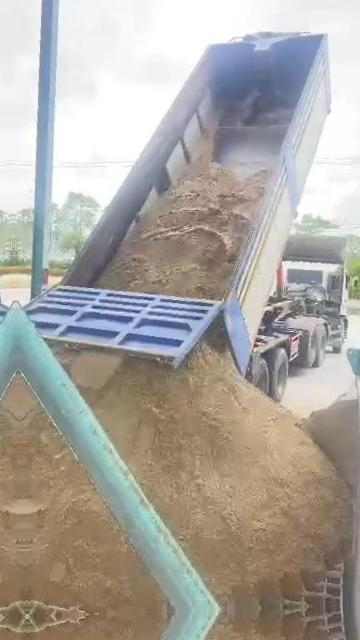sand: (59, 340, 348, 608), (21, 385, 164, 613), (100, 160, 269, 297), (303, 395, 360, 493)
